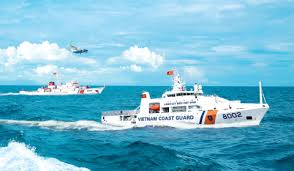maybay_dansu: (65, 43, 91, 55)
tau_dansu: (100, 72, 268, 128), (28, 75, 108, 99)
